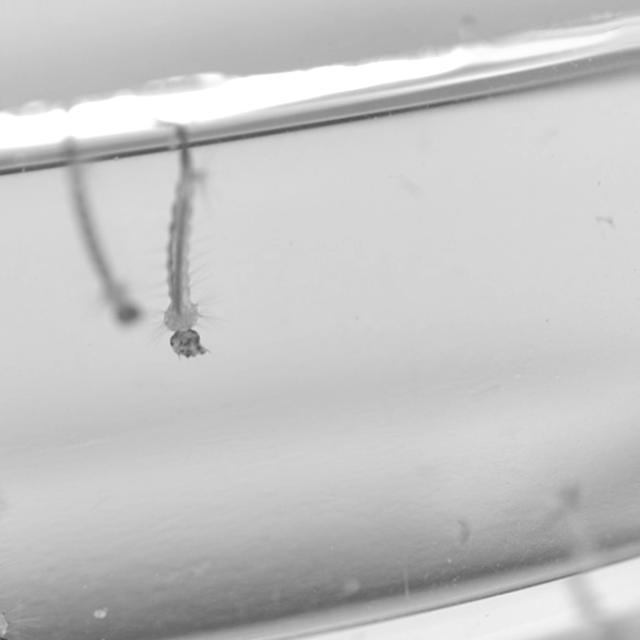larvas: (62, 145, 139, 326), (165, 127, 198, 362)
